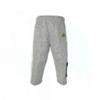pantaloni: (30, 16, 67, 84)
